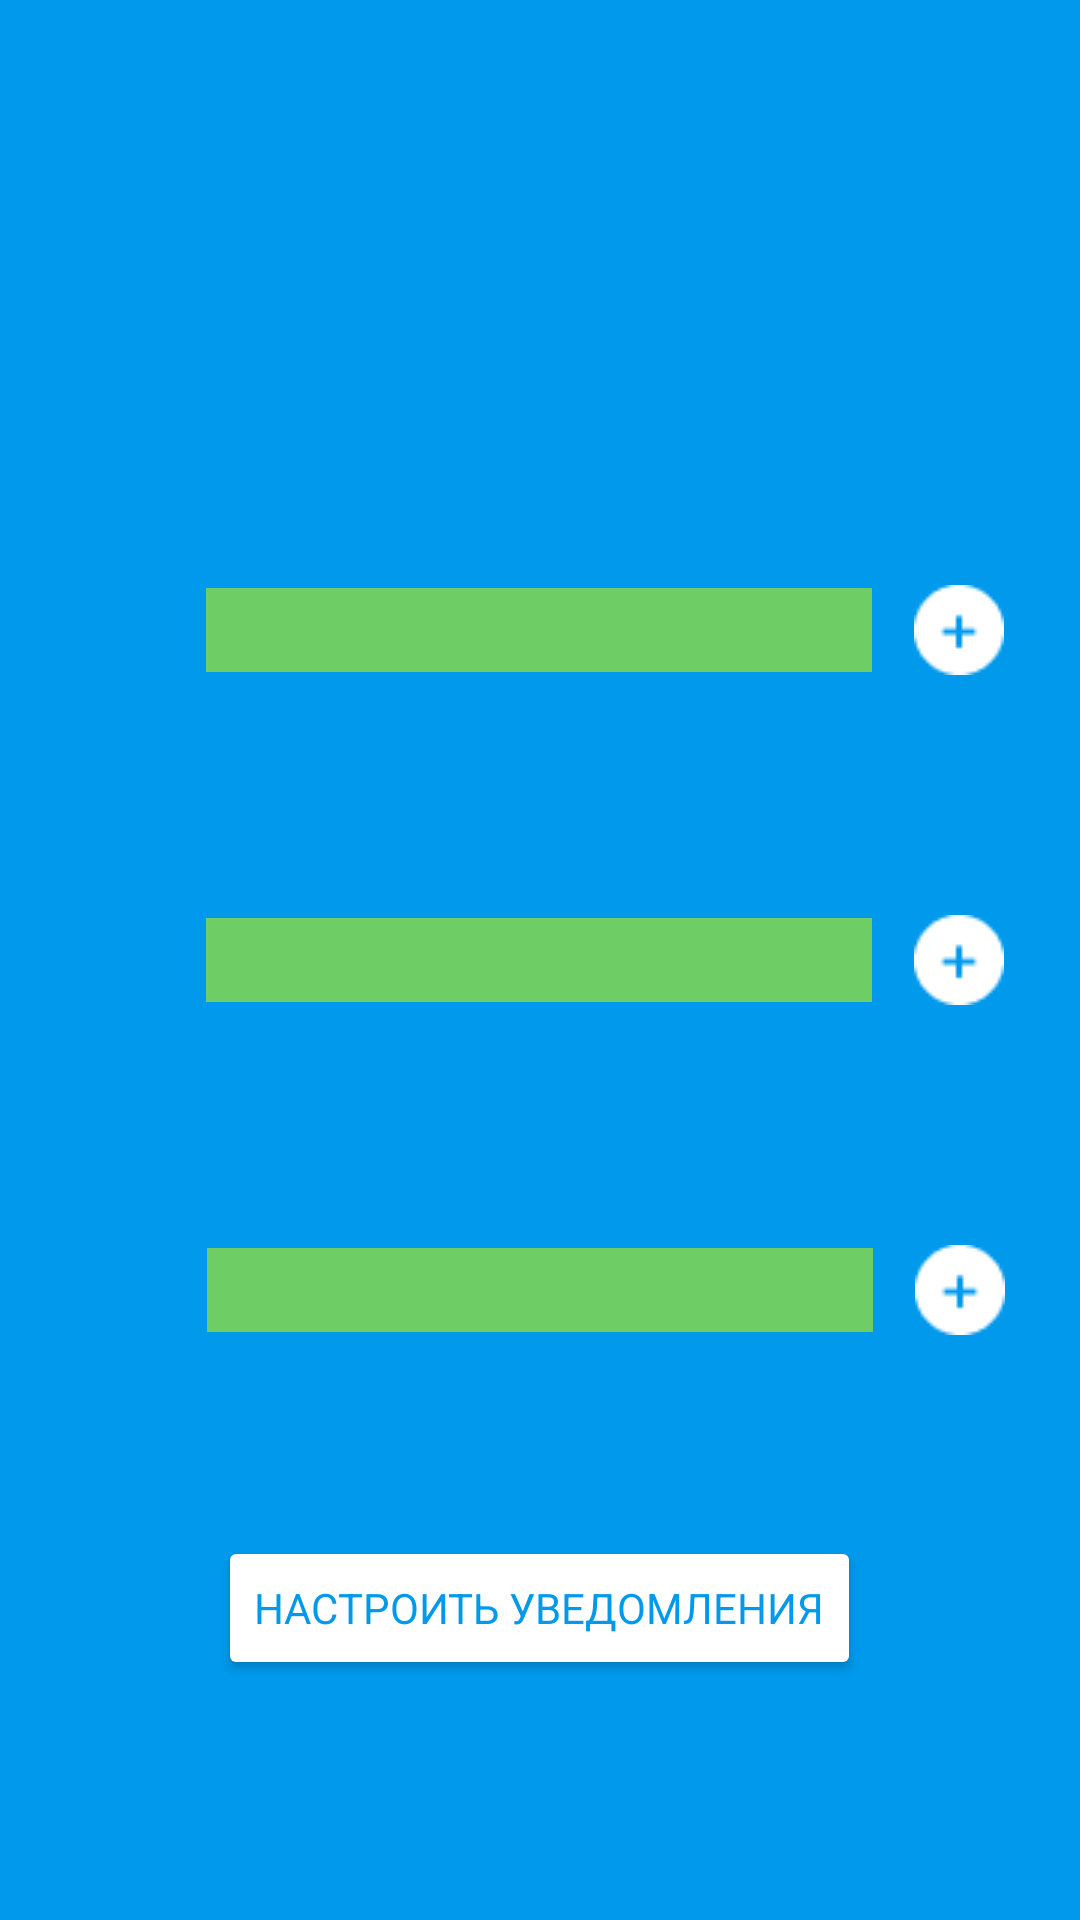

Screen size 1080w x 1920h. Icon name, then its box in pixels as (x1, y1, x2, y2):
add: (914, 585, 1004, 675), (914, 915, 1004, 1005), (915, 1245, 1005, 1335)
